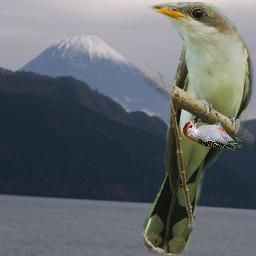Cuckoo: (143, 2, 254, 255)
Woodpecker: (183, 113, 242, 149)
